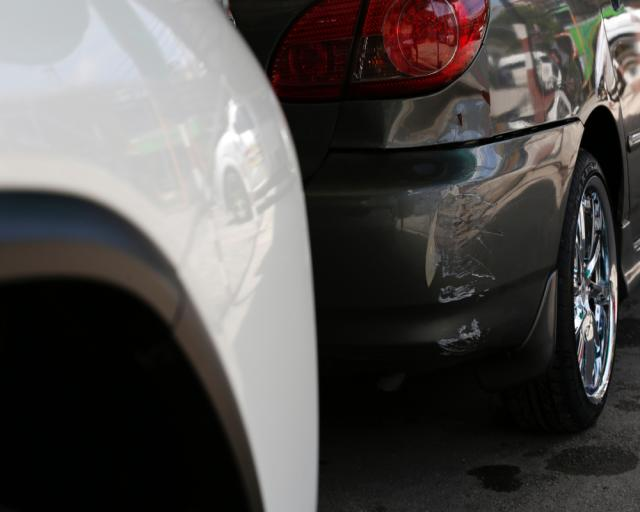dent: (388, 78, 495, 149)
scratch: (416, 162, 508, 356)
